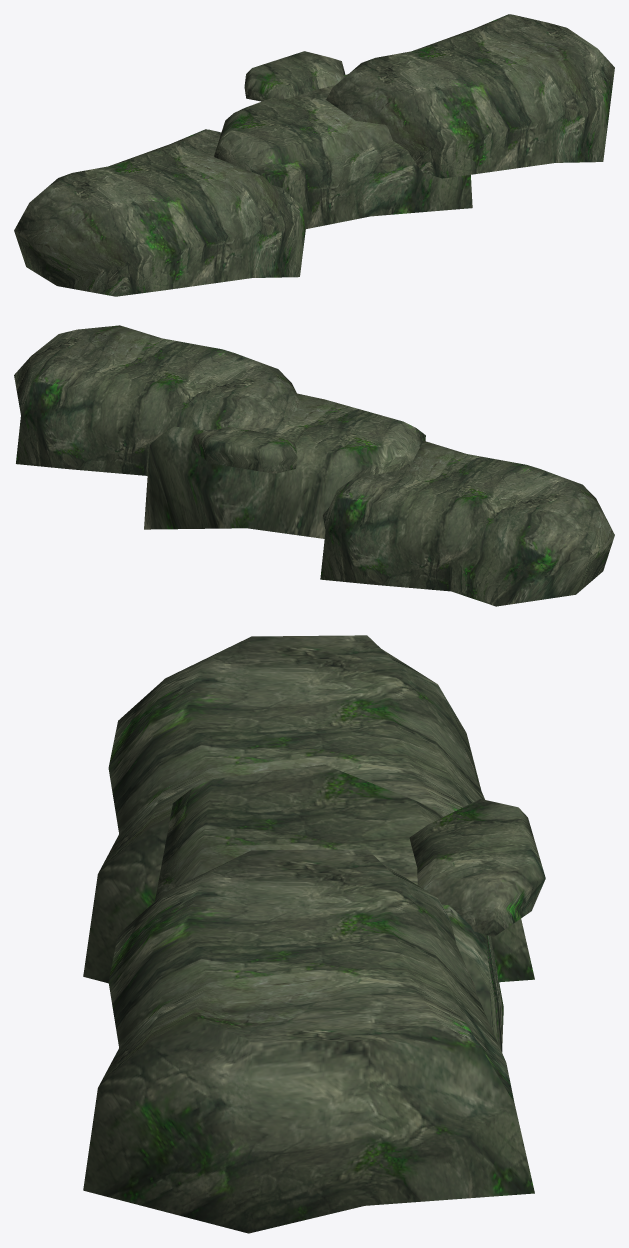
The model's file is shandingshi.fbx.
The picture shows the model from 3 angles, top to bottom: view 1: azimuth 30°, elevation 25°; view 2: azimuth 150°, elevation 25°; view 3: azimuth 270°, elevation 25°; orthographic projection. The views are drawn at different scales.
Parts seen in each view (by area): view 1: polySurface488; view 2: polySurface488; view 3: polySurface488.
Boxes of the visible parts, box(x1,y1,x2,y2) form: polySurface488: box(14, 14, 614, 296); polySurface488: box(14, 325, 614, 606); polySurface488: box(83, 635, 545, 1233).
Bounding box in the file's own units: 416 × 87.34 × 146.
